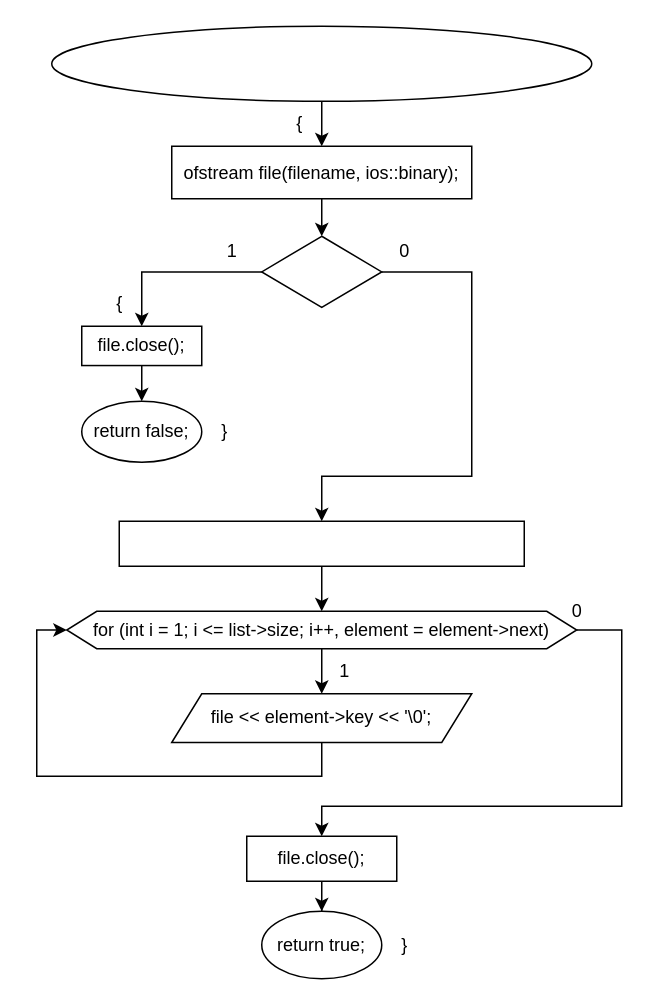
Some shapes in this 660 by 1005 pixel diagram are drawn without their labels. Each missing label, with the centre of its shape:
"bool bilist_save(BidirectionalList *list, const string filename)" belongs at point (321, 63).
"if (!file)" belongs at point (321, 271).
"UnidirectionalElement *element = list->first;" belongs at point (321, 543).
